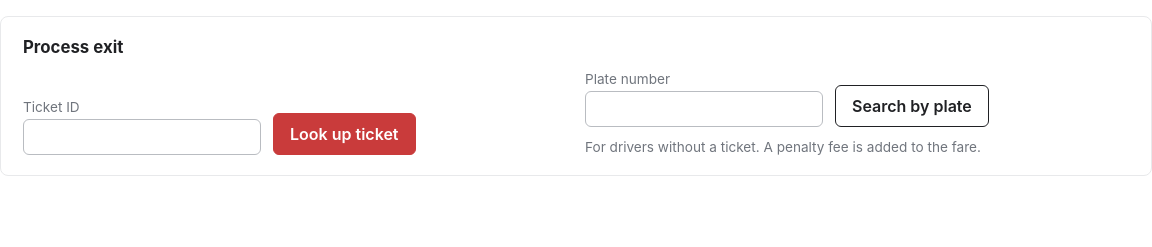
Test: ExitConsole › shows lookup misses and prevents exit confirmation until a vehicle is found
This screenshot has width=1152, height=247.
Type "missing" into the field labelled "Ticket ID" at (142, 137), box top-left (23, 119), bottom-right (261, 155)
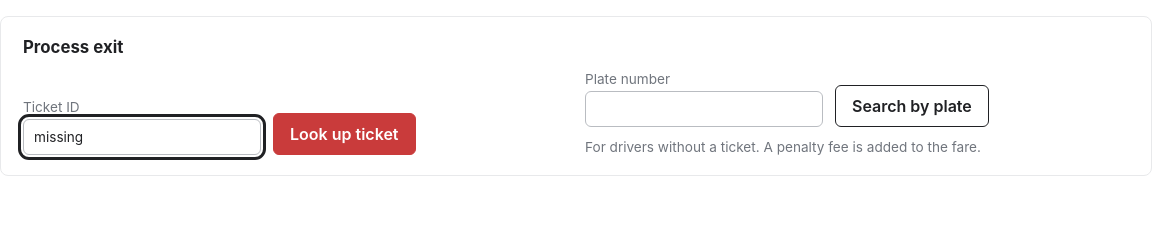
Click the button "Look up ticket" at (344, 134), box top-left (273, 113), bottom-right (416, 155)
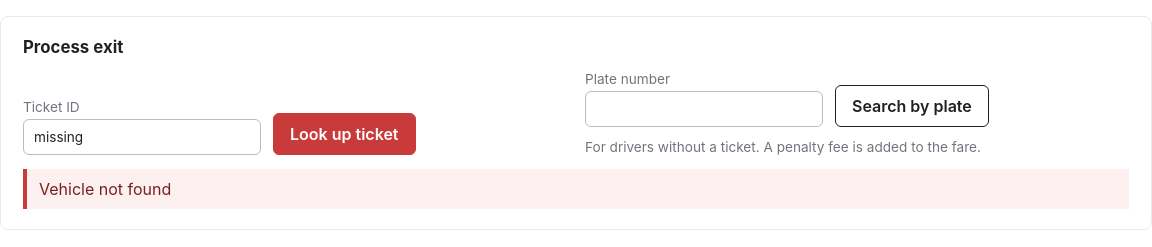
expect the message reads "Vehicle not found": met, box top-left (39, 179), bottom-right (171, 199)
